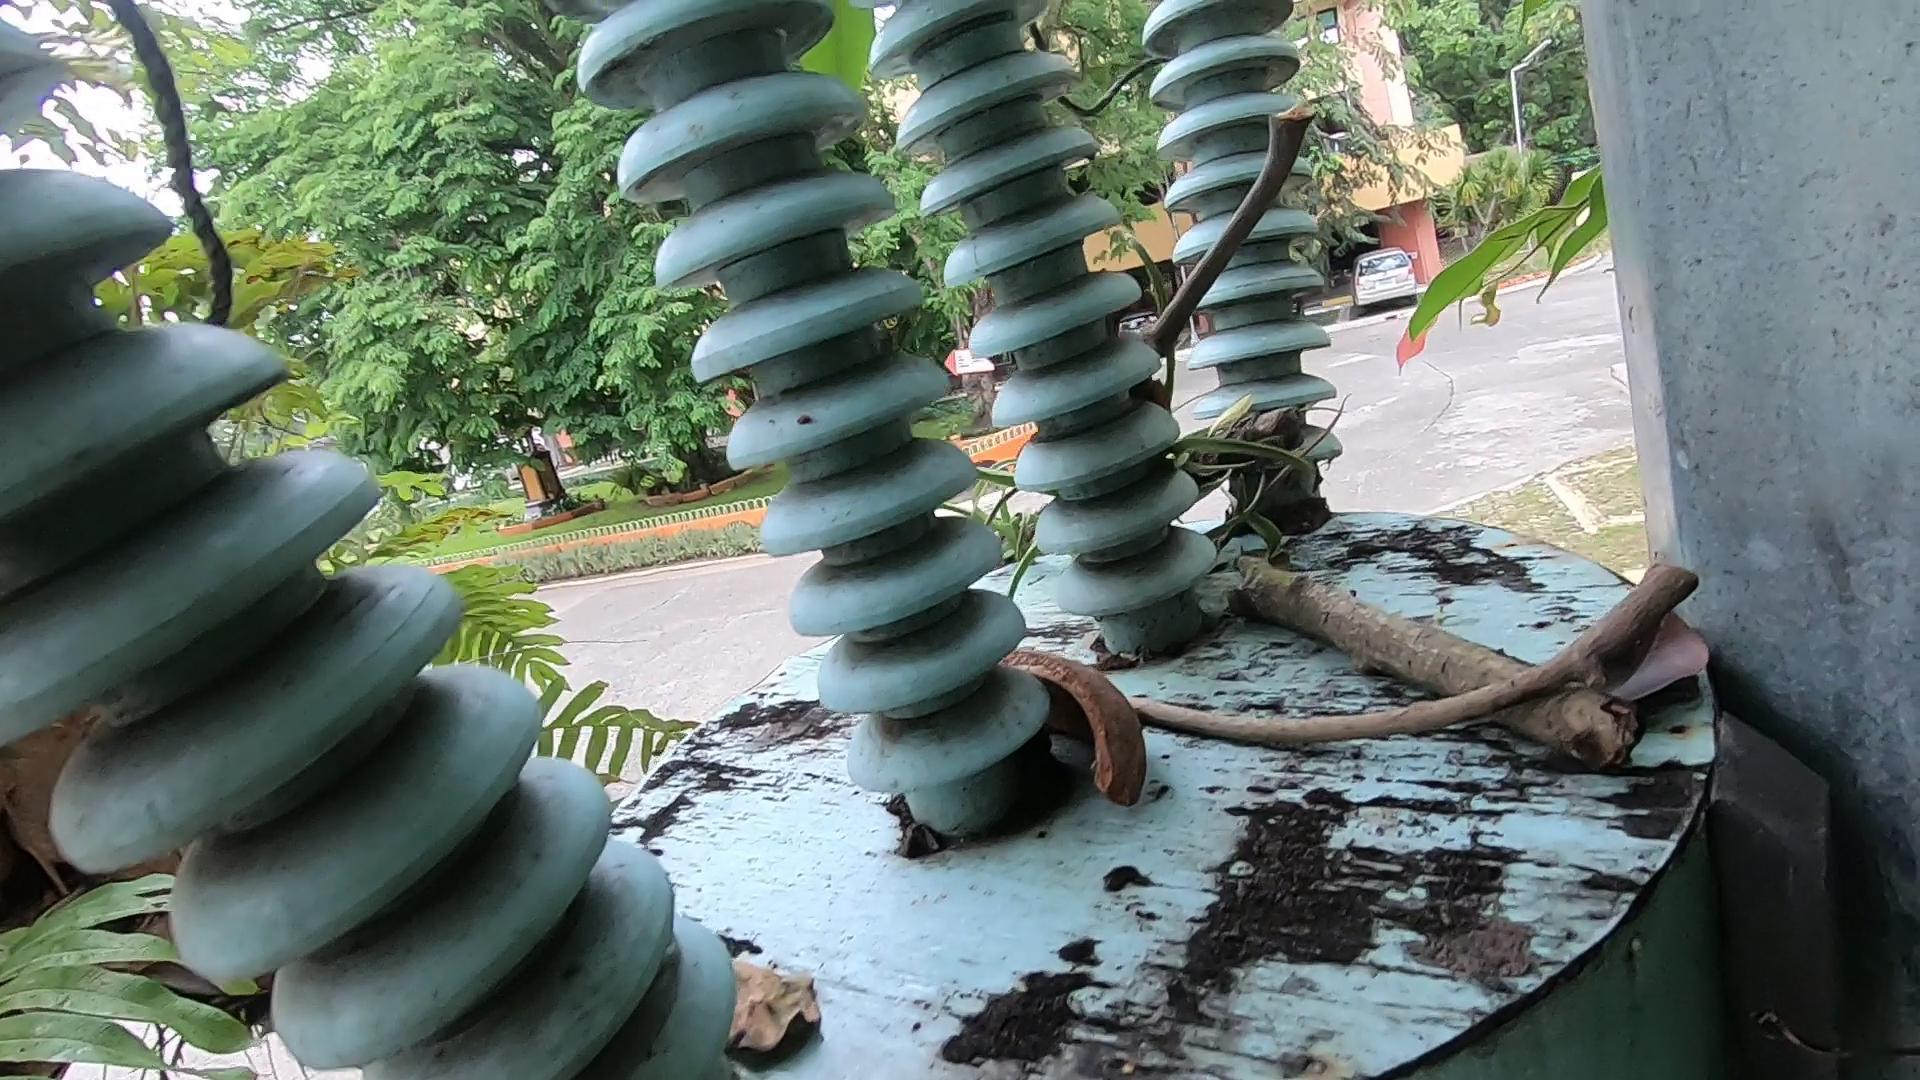branch with leaves: (1178, 413, 1654, 907)
leaf: (615, 848, 869, 1080), (1604, 582, 1808, 744)
mahogany fruit: (981, 613, 1191, 829)
tree branch: (1129, 88, 1437, 415), (1154, 646, 1733, 811)
